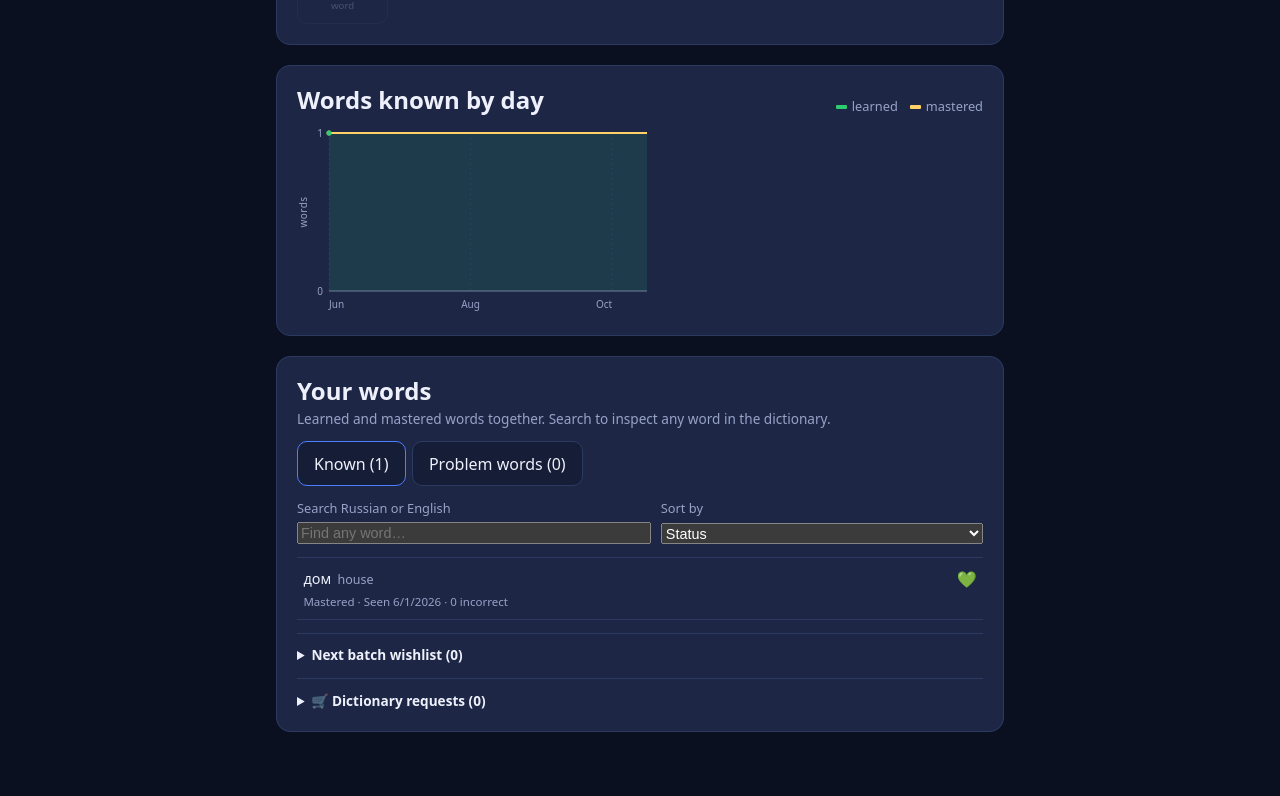
ProgressView › renders the words-known chart and opens a known word from the combined list
(page scrolled)
What coordinates should you click on to do the following:
click the button with class "explorer-row"
I would click on:
 (356, 579)
Its box is [297, 558, 983, 619].
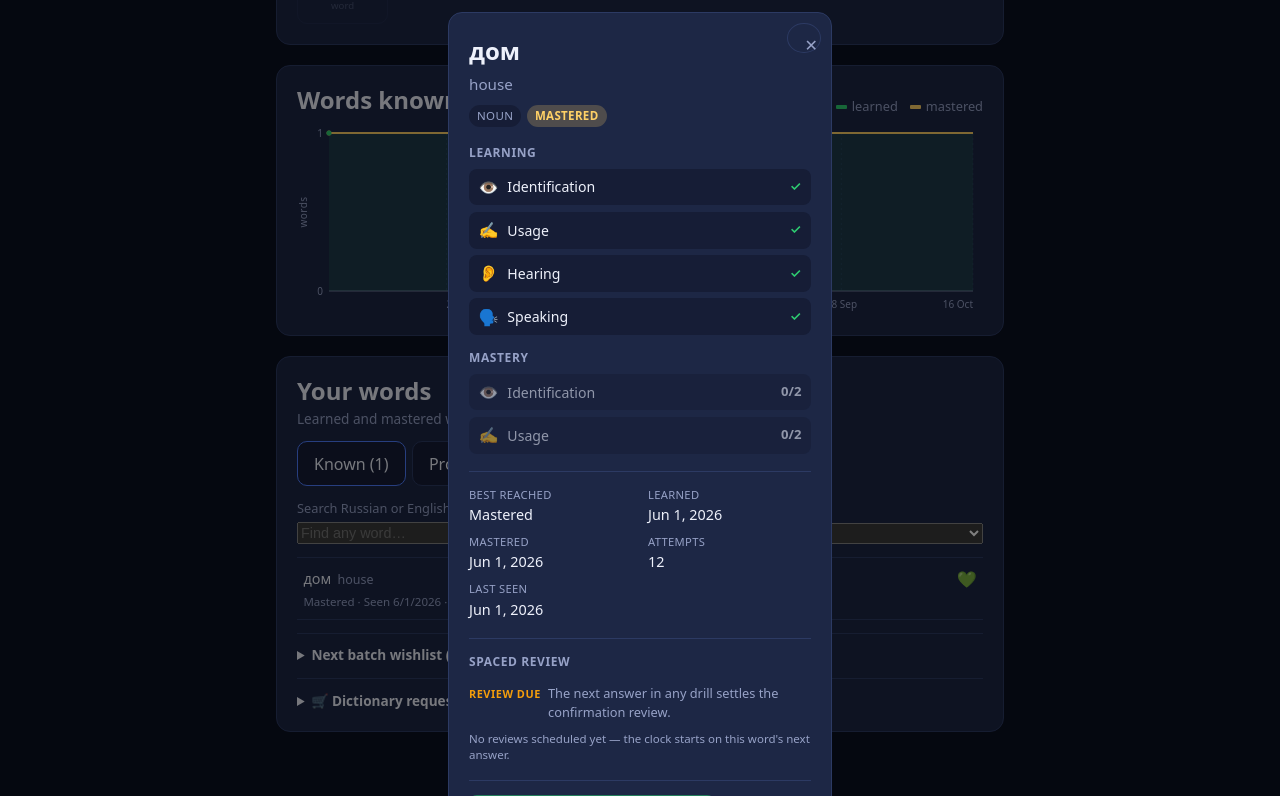
expect the element with class "dot-learned" is shown: met, box [326, 130, 332, 135]
expect the dialog named "Word progress" is shown: met, box [448, 12, 832, 795]
